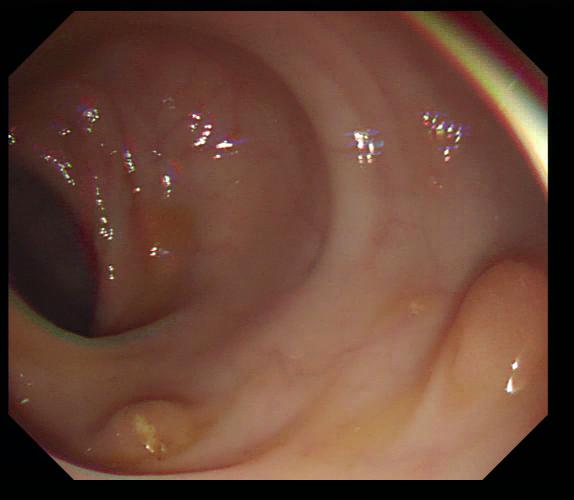polyp: (420, 252, 544, 422), (88, 396, 211, 464), (391, 290, 440, 329)
